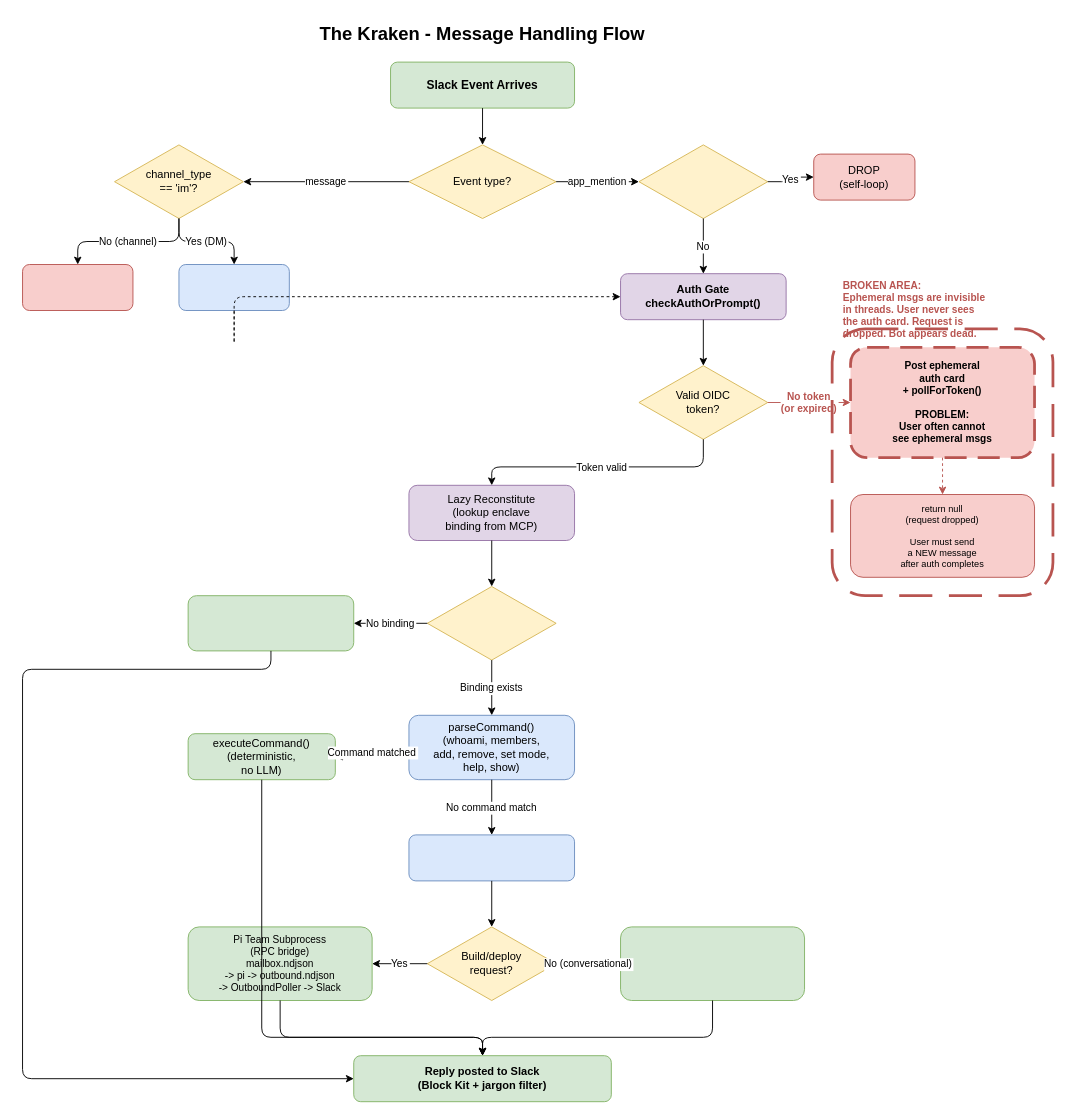
This 1070x1118 diagram has some shape labels left out. The centre of each missing label's shape, as x and y in pixels:
"DM Handler (smart-path)" goes at (x=233, y=287).
"DROP (channel msg)" goes at (x=77, y=287).
"Enclave binding found?" goes at (x=491, y=623).
"Inline Smart Path (pi-ai complete() loop + MCP tools + thread memory)" goes at (x=712, y=963).
"Provisioning Mode (smart-path with enclave_provision)" goes at (x=270, y=623).
"routeEvent() (D4 hybrid dispatcher)" goes at (x=491, y=857).
"userId == botUserId?" goes at (x=703, y=181).
